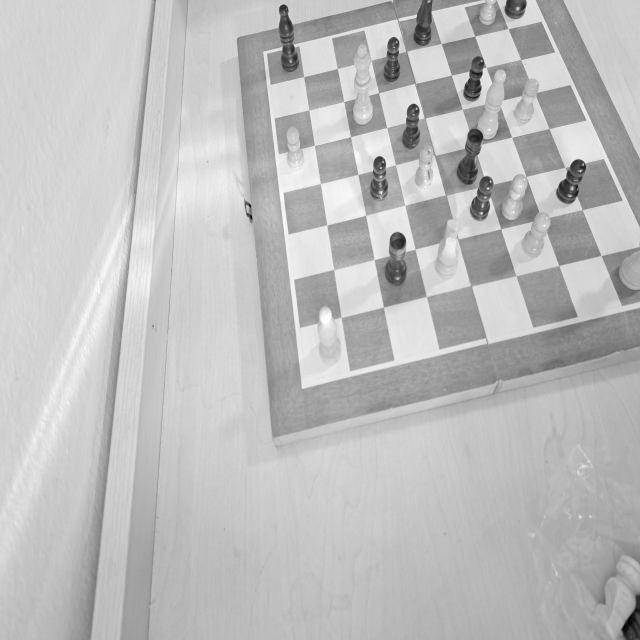chess-table-corners: (294, 368, 318, 394), (258, 44, 277, 64)
